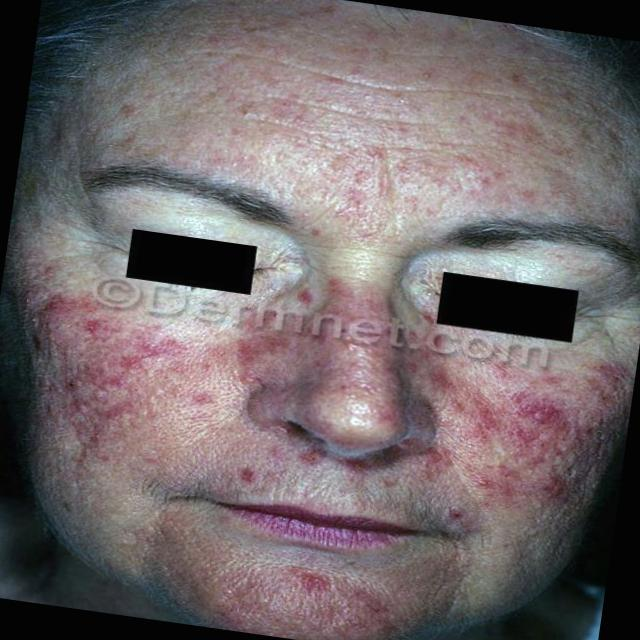skinredness: (9, 16, 640, 567)
